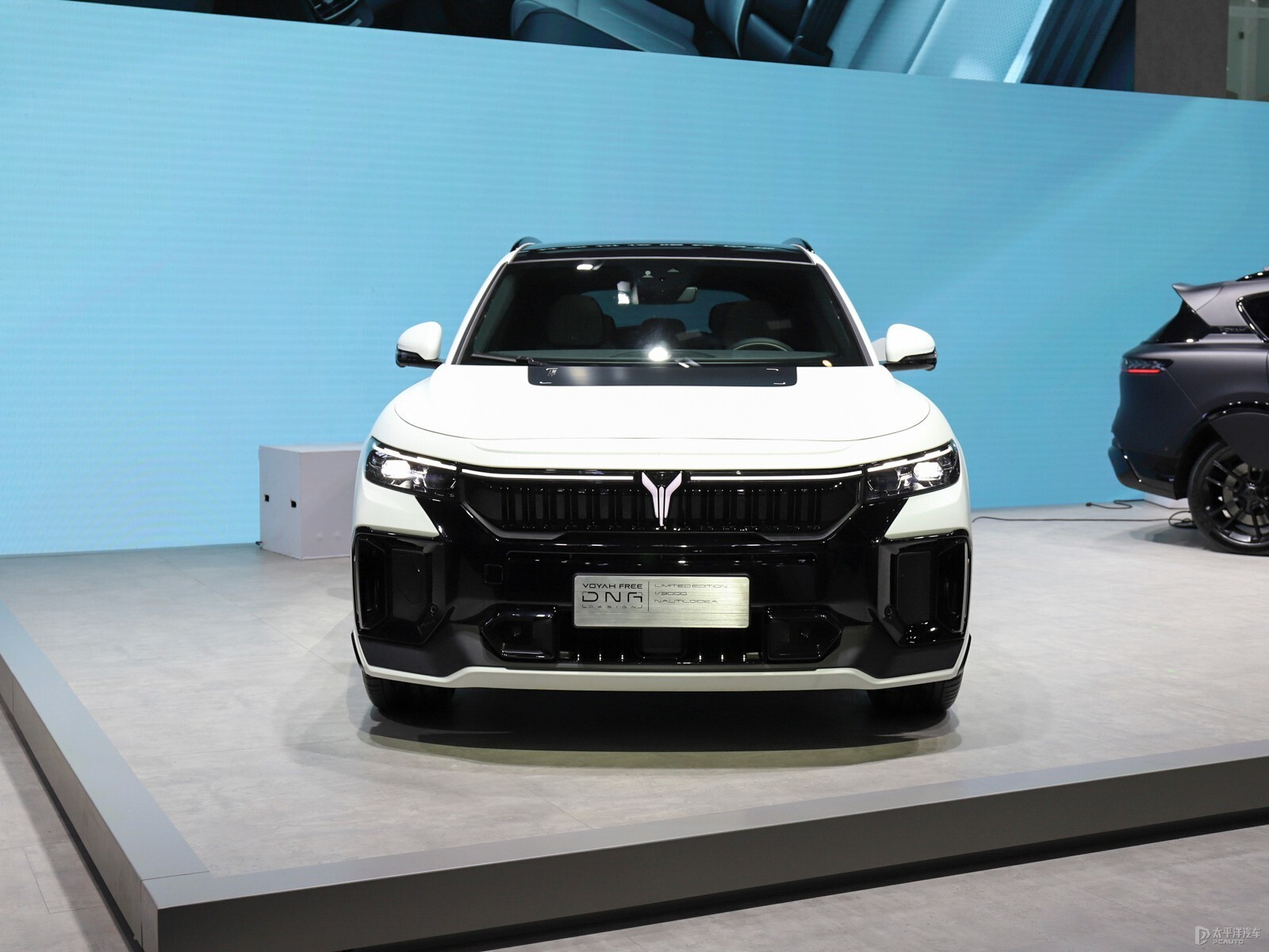VOYAH: (642, 472, 681, 526)
